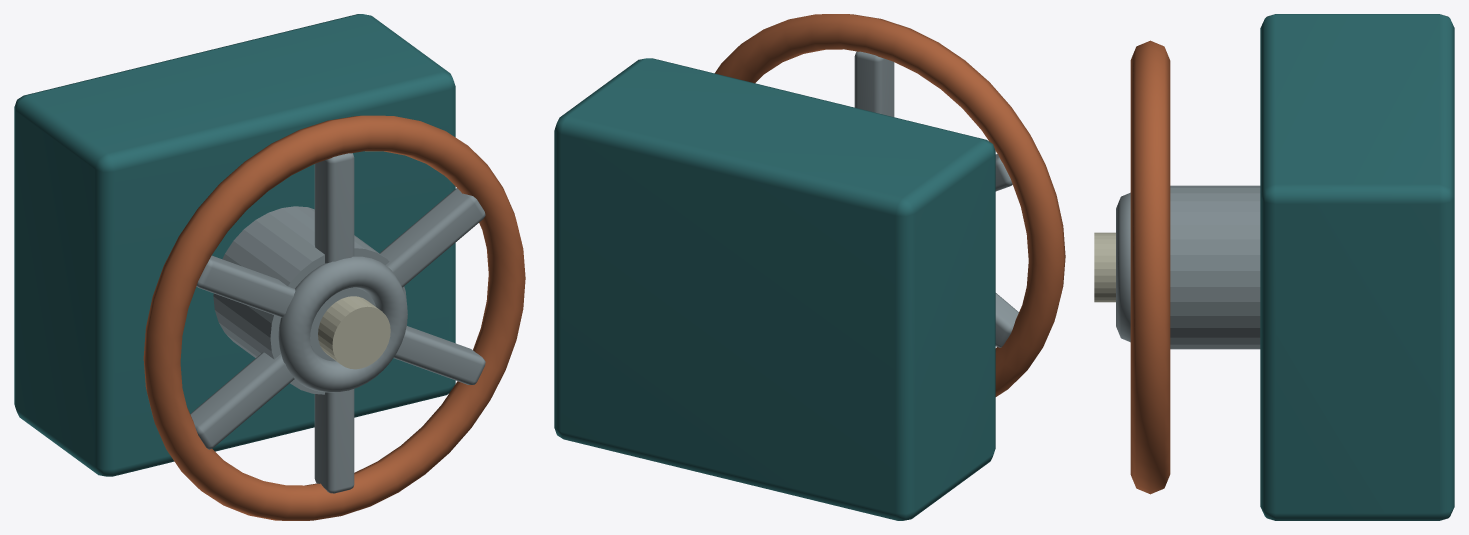
Rendered from valve.glb.
3 renders of one model, left to right at view 1: azimuth 30°, elevation 25°; view 2: azimuth 150°, elevation 25°; view 3: azimuth 270°, elevation 25°, orthographic. The views are drawn at different scales.
Visible parts, largest first — view 1: Valve housing, Cast handwheel, Spindle, Machined hub, Radial spoke.004, Radial spoke.001, Radial spoke, Center bolt, Radial spoke.003, Radial spoke.005, Radial spoke.002; view 2: Valve housing, Cast handwheel, Radial spoke, Radial spoke.004; view 3: Valve housing, Cast handwheel, Spindle, Machined hub, Center bolt.
Boxes of the visible parts, x1=… form: Valve housing: x1=14, y1=14, x2=455, y2=476; Cast handwheel: x1=143, y1=115, x2=525, y2=520; Spindle: x1=213, y1=206, x2=406, y2=394; Machined hub: x1=278, y1=256, x2=407, y2=392; Radial spoke.004: x1=190, y1=352, x2=294, y2=449; Radial spoke.001: x1=379, y1=188, x2=485, y2=287; Radial spoke: x1=314, y1=153, x2=354, y2=263; Center bolt: x1=318, y1=296, x2=390, y2=369; Radial spoke.003: x1=314, y1=389, x2=354, y2=493; Radial spoke.005: x1=196, y1=255, x2=295, y2=317; Radial spoke.002: x1=393, y1=326, x2=485, y2=384; Valve housing: x1=554, y1=58, x2=995, y2=520; Cast handwheel: x1=715, y1=14, x2=1065, y2=396; Radial spoke: x1=854, y1=51, x2=894, y2=116; Radial spoke.004: x1=995, y1=293, x2=1018, y2=347; Valve housing: x1=1260, y1=14, x2=1454, y2=520; Cast handwheel: x1=1130, y1=40, x2=1170, y2=494; Spindle: x1=1170, y1=185, x2=1260, y2=349; Machined hub: x1=1116, y1=192, x2=1130, y2=342; Center bolt: x1=1094, y1=232, x2=1115, y2=302.
Bounding box in the file's own units: 1.05 × 1.05 × 0.835.
